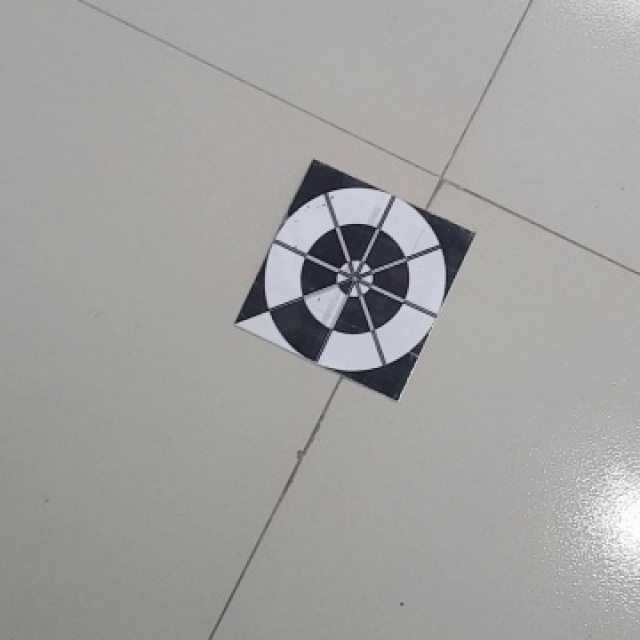landing-zone: (229, 148, 480, 412)
